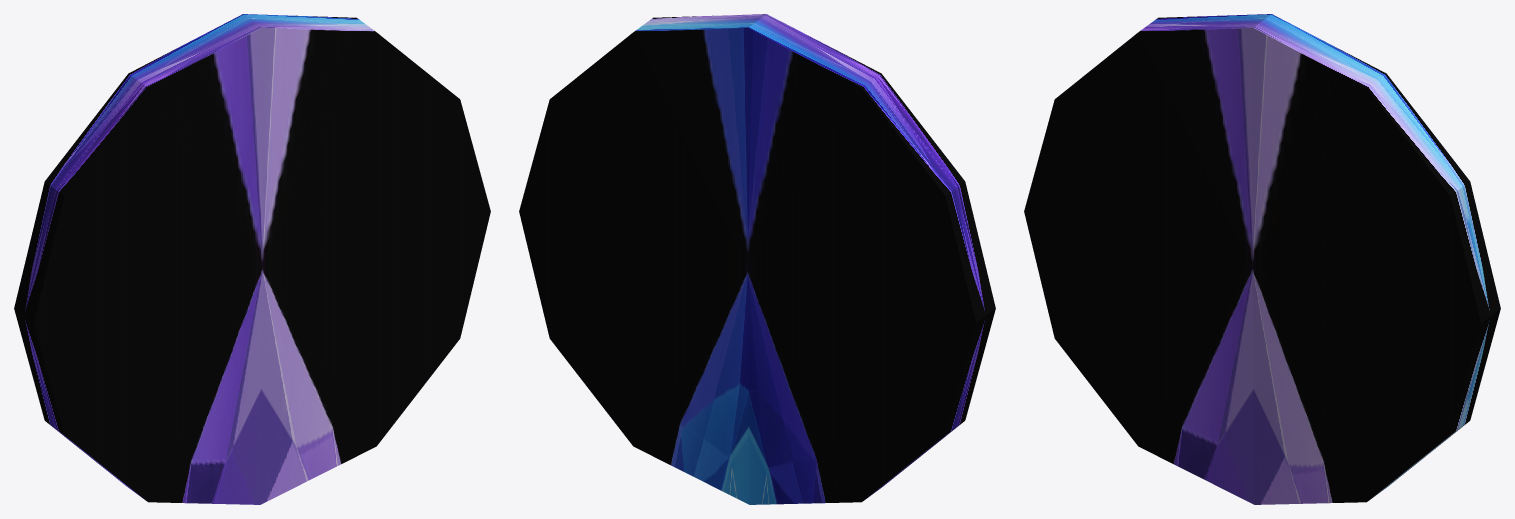
Rendered from gem_platform.glb.
3 renders of one model, left to right at view 1: azimuth 30°, elevation 25°; view 2: azimuth 150°, elevation 25°; view 3: azimuth 330°, elevation 25°, orthographic.
Parts seen in each view (by area): view 1: world; view 2: world; view 3: world.
Boxes of the visible parts, x1,y1,x2,y2 form: world: [14, 14, 490, 504]; world: [519, 14, 995, 504]; world: [1024, 14, 1500, 504].
Size of the model in its own units: 2 by 2 by 0.15.
1 material, 1 textured.
